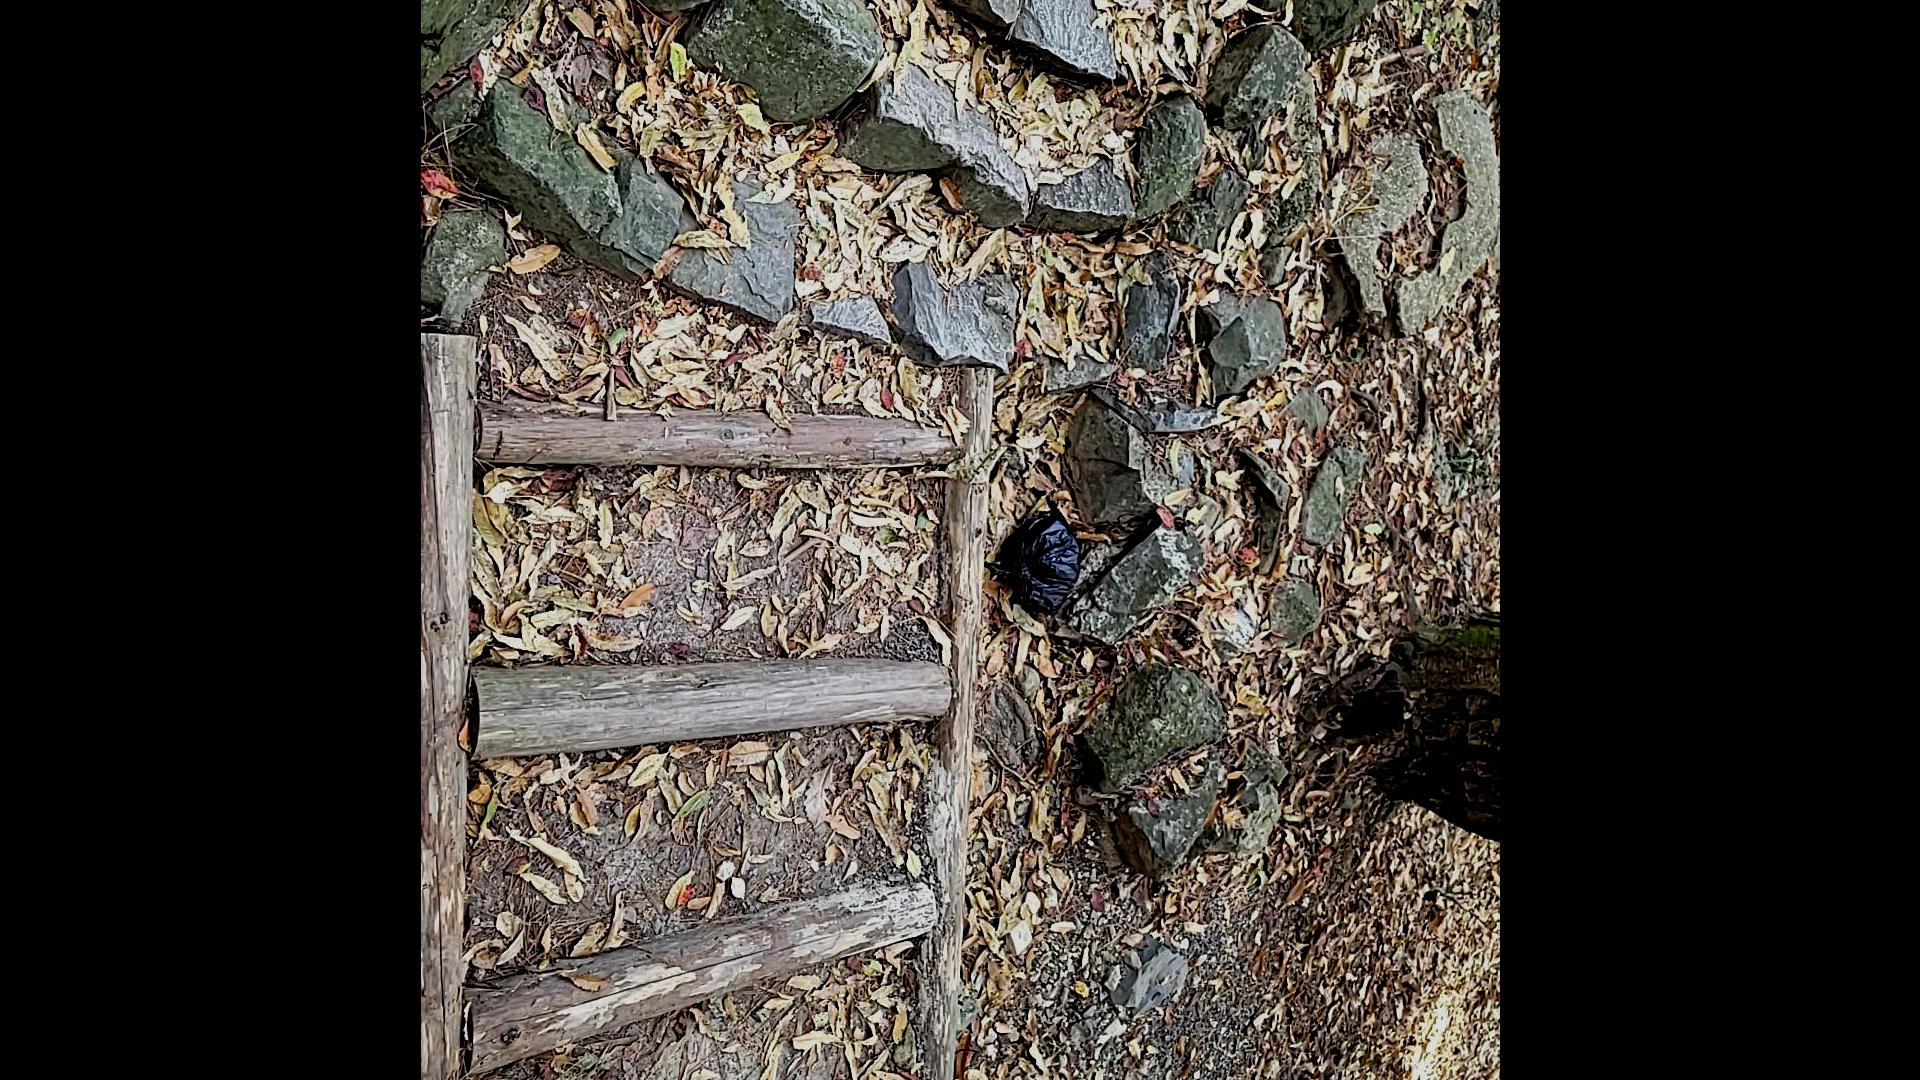black_bag: (984, 500, 1087, 622)
